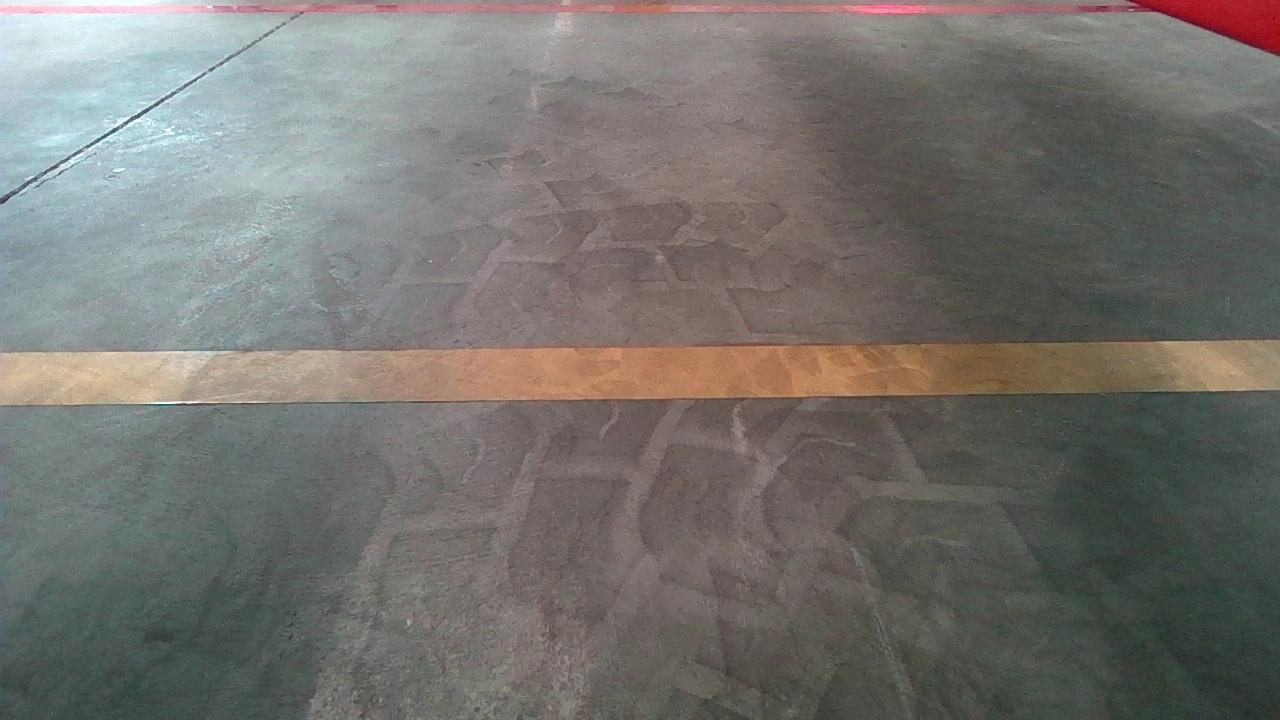yellow_line: (10, 335, 1280, 401)
